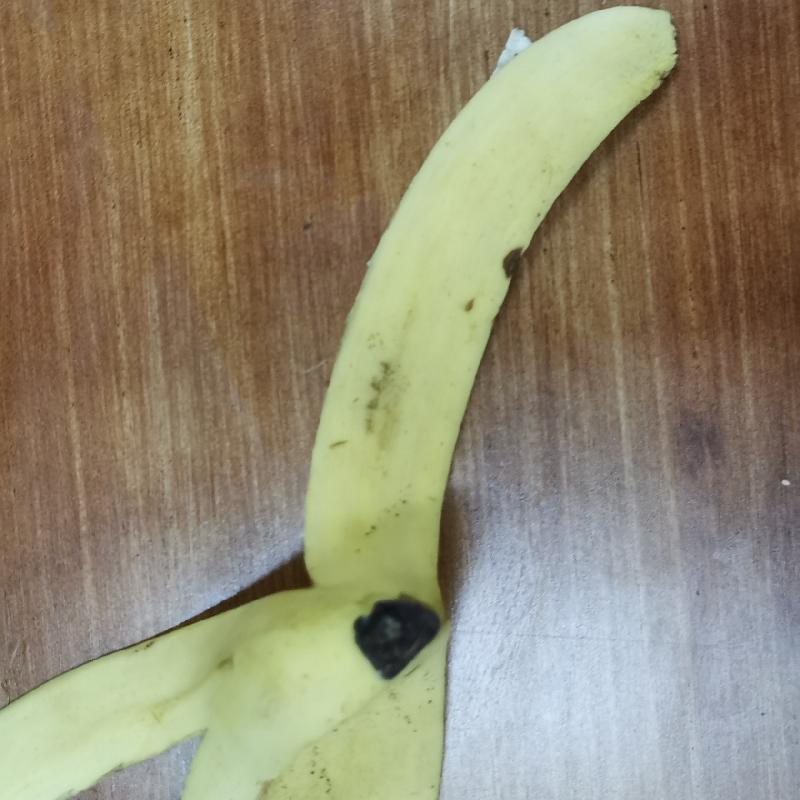bananas: (3, 8, 677, 799)
